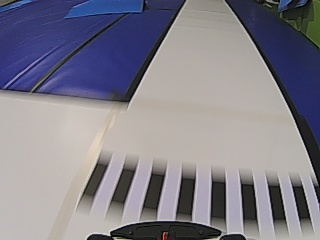CrossWalk: (84, 159, 309, 218)
